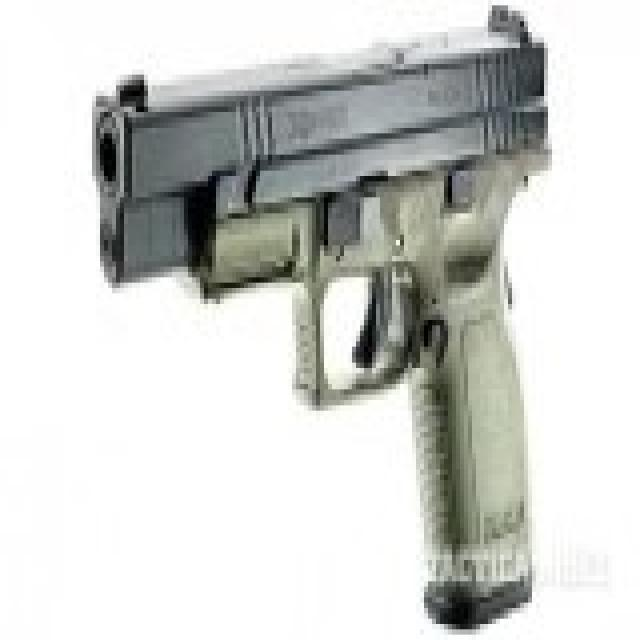Gun: (84, 6, 584, 610)
